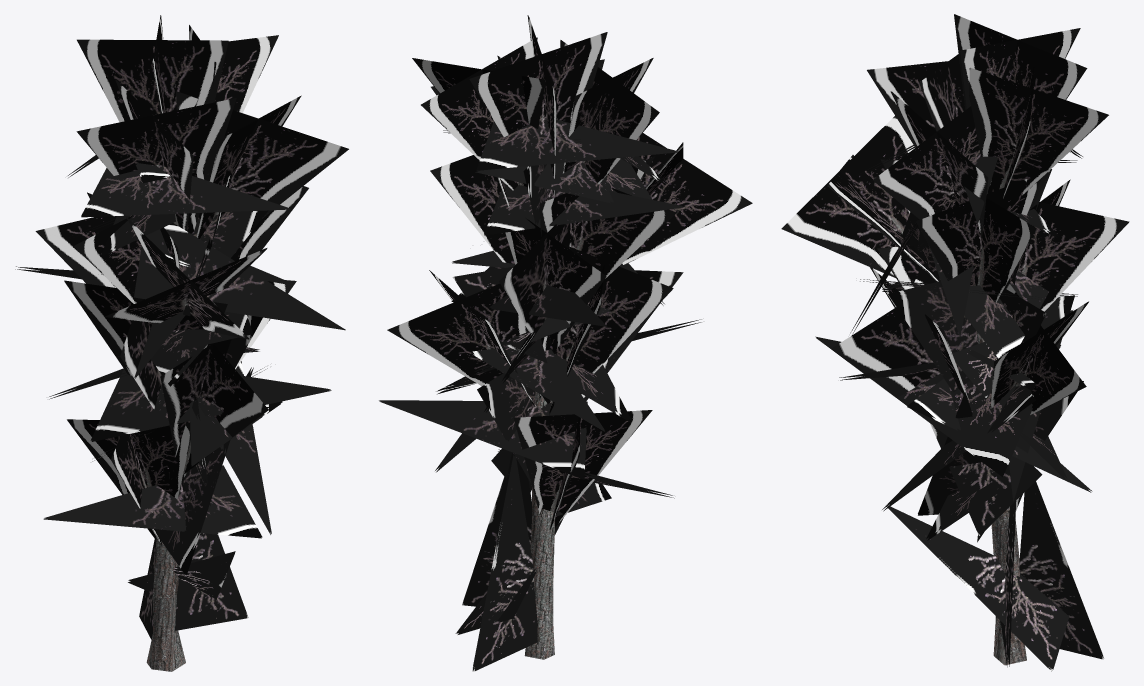
Rendered from olmo_seco_c.glb.
The picture shows the model from 3 angles, left to right: view 1: azimuth 30°, elevation 25°; view 2: azimuth 150°, elevation 25°; view 3: azimuth 270°, elevation 25°; orthographic projection. The views are drawn at different scales.
Parts seen in each view (by area): view 1: Modelo; view 2: Modelo; view 3: Modelo.
Part boxes in pixels (<box>): Modelo: <box>15,15,348,671</box>; Modelo: <box>379,15,752,671</box>; Modelo: <box>781,14,1129,671</box>.
Size of the model in its own units: 5.04 by 10.88 by 5.5.
Materials: 1 (1 with a texture image).
